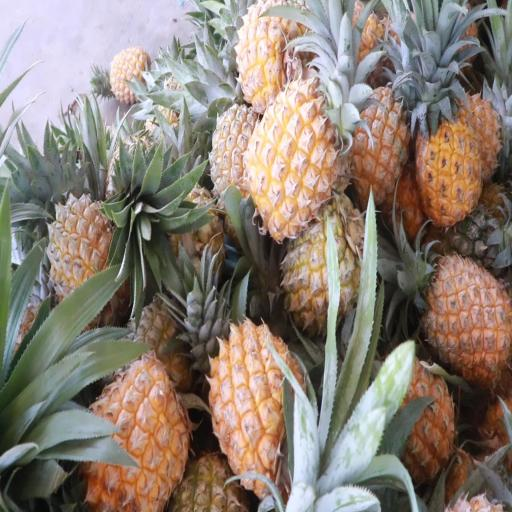------------------------------: (282, 207, 364, 337)
Pineapple - v8 v1: (81, 364, 189, 508), (212, 323, 305, 484), (250, 86, 336, 234), (420, 259, 510, 375), (374, 361, 456, 487), (343, 83, 409, 204), (418, 110, 483, 225), (239, 0, 304, 105)
